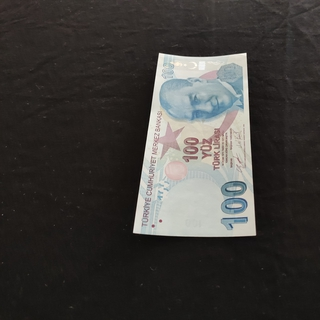100TLFront: (132, 52, 257, 237)
